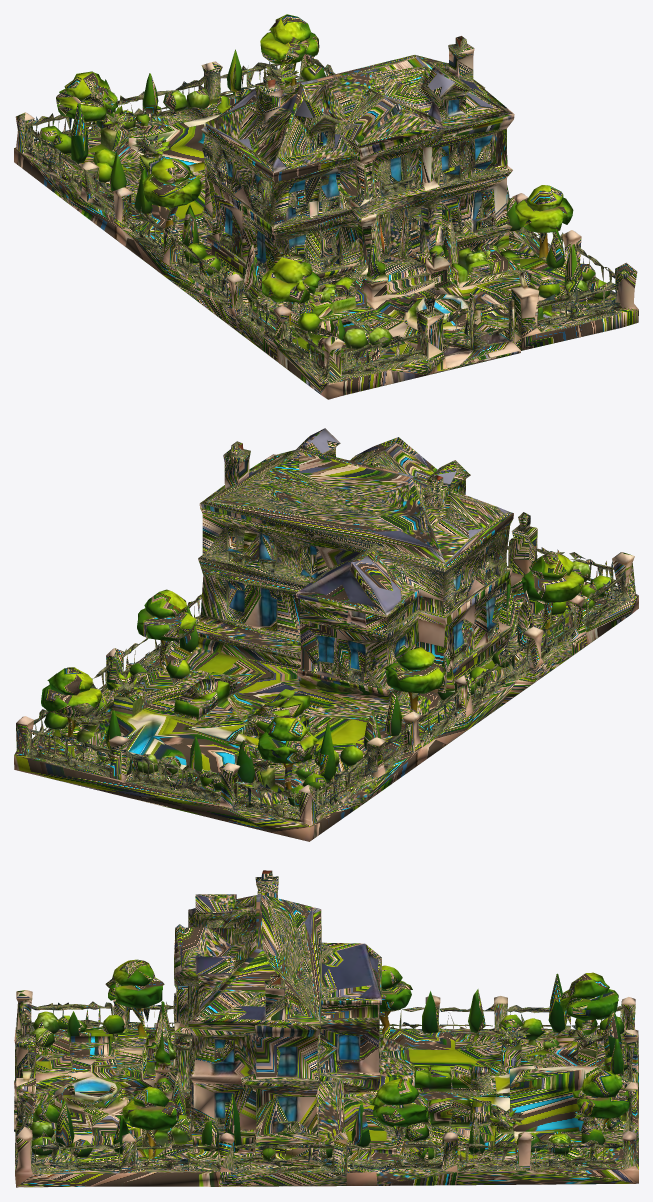
File: house-mansion.glb
3 views of the same model, one above another, from view 1: azimuth 30°, elevation 25°; view 2: azimuth 150°, elevation 25°; view 3: azimuth 270°, elevation 25° (orthographic). The views are drawn at different scales.
Visible parts, largest first — view 1: tripo_node_ef0c7045-4f4f-4241-8cad-4cd3c8c827cd; view 2: tripo_node_ef0c7045-4f4f-4241-8cad-4cd3c8c827cd; view 3: tripo_node_ef0c7045-4f4f-4241-8cad-4cd3c8c827cd.
Part boxes in pixels (x1,y1,x2,y2): tripo_node_ef0c7045-4f4f-4241-8cad-4cd3c8c827cd: (14, 14, 638, 399); tripo_node_ef0c7045-4f4f-4241-8cad-4cd3c8c827cd: (14, 428, 638, 841); tripo_node_ef0c7045-4f4f-4241-8cad-4cd3c8c827cd: (14, 870, 638, 1187).
Bounding box in the file's own units: 0.5489 × 0.3505 × 0.9781.
1 material, 1 textured.
